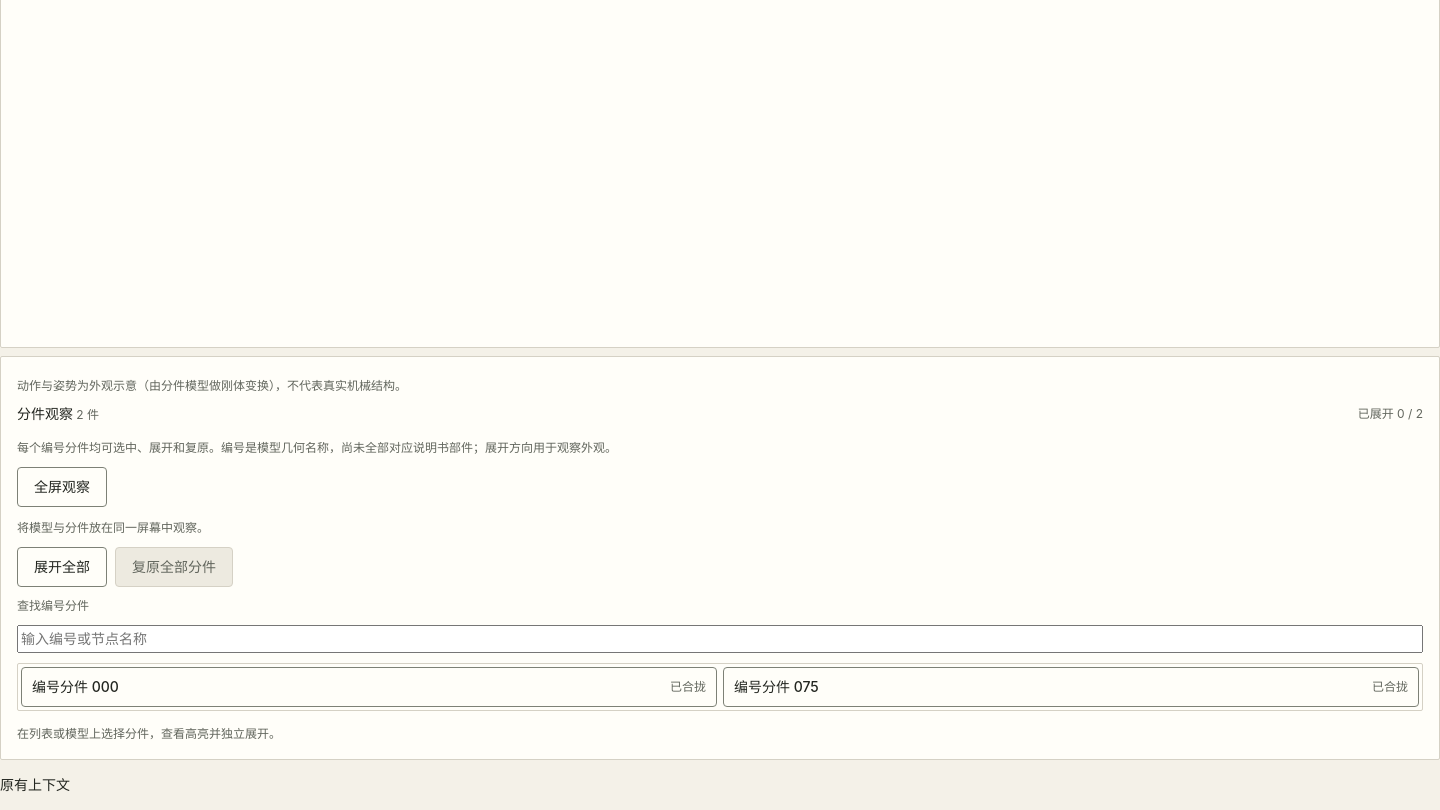
Test case: 分件全屏观察 › 按钮直接请求模型和分件的共同主栏，进入和按钮退出保留同一Canvas与展开状态
(page scrolled)
Click the button with test id "inspect-node-tripo_part_75" at (776, 686), box [723, 667, 1419, 707]
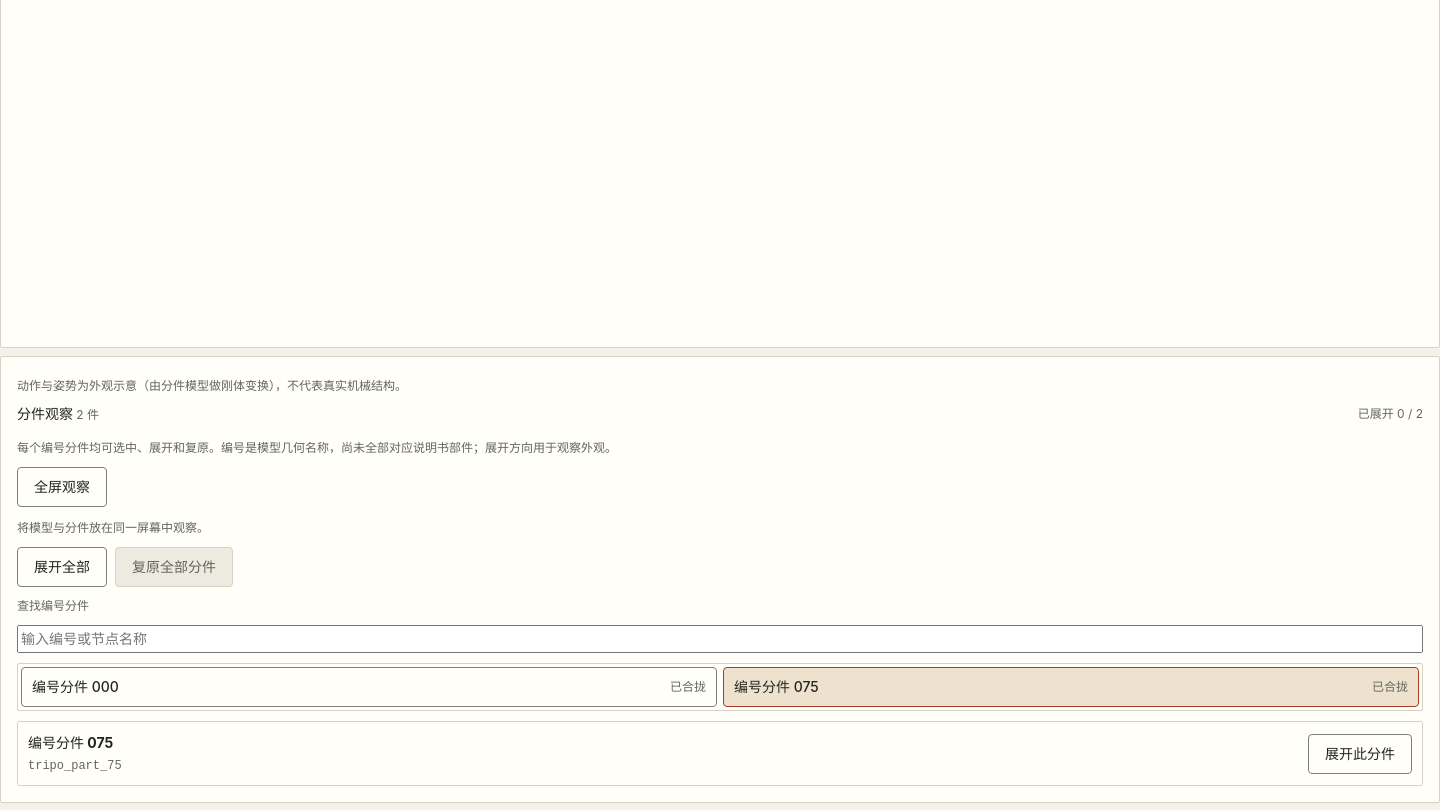
Click the button with test id "part-inspection-toggle" at (1360, 754), box [1308, 734, 1412, 774]
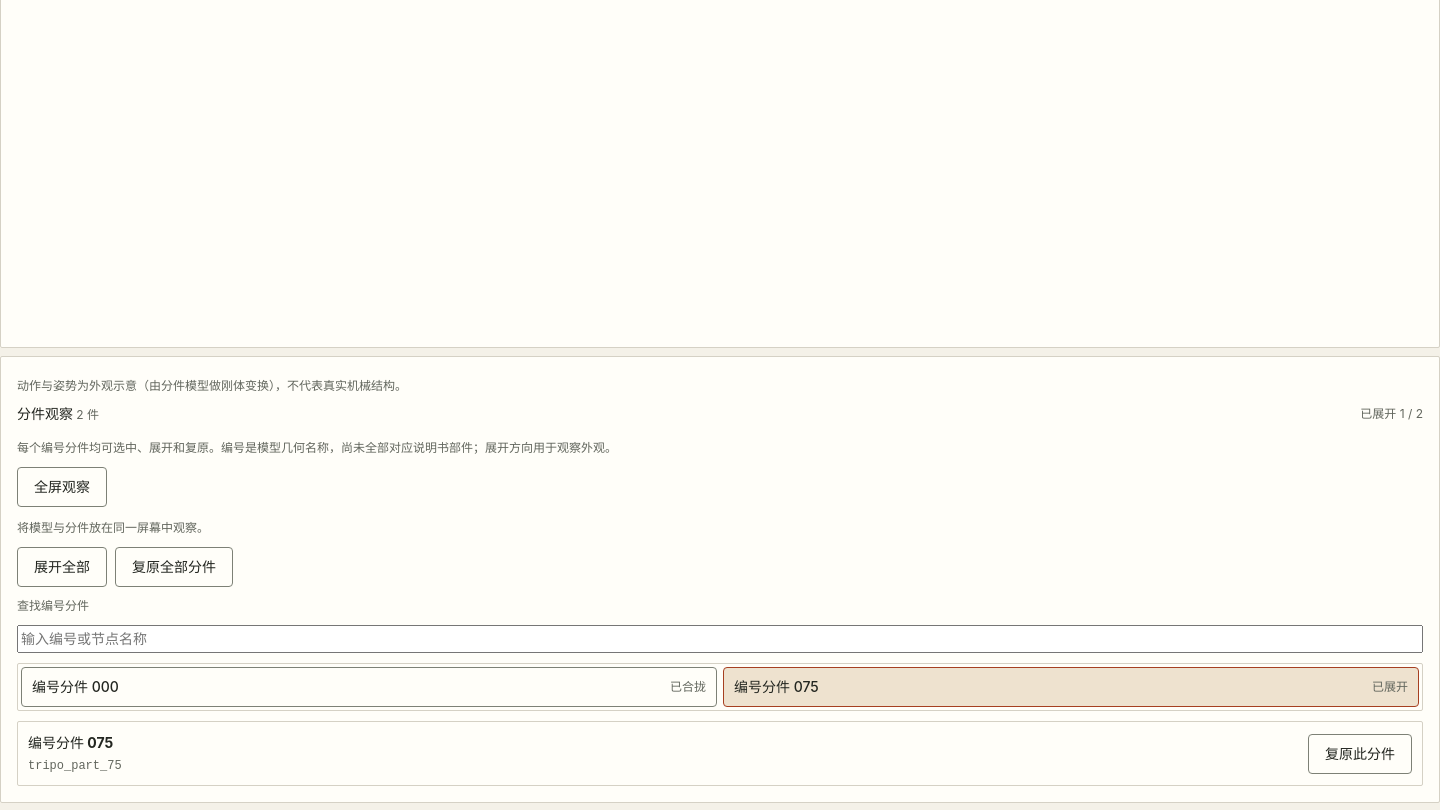
Click the button with test id "parts-fullscreen" at (62, 487), box [17, 467, 107, 507]
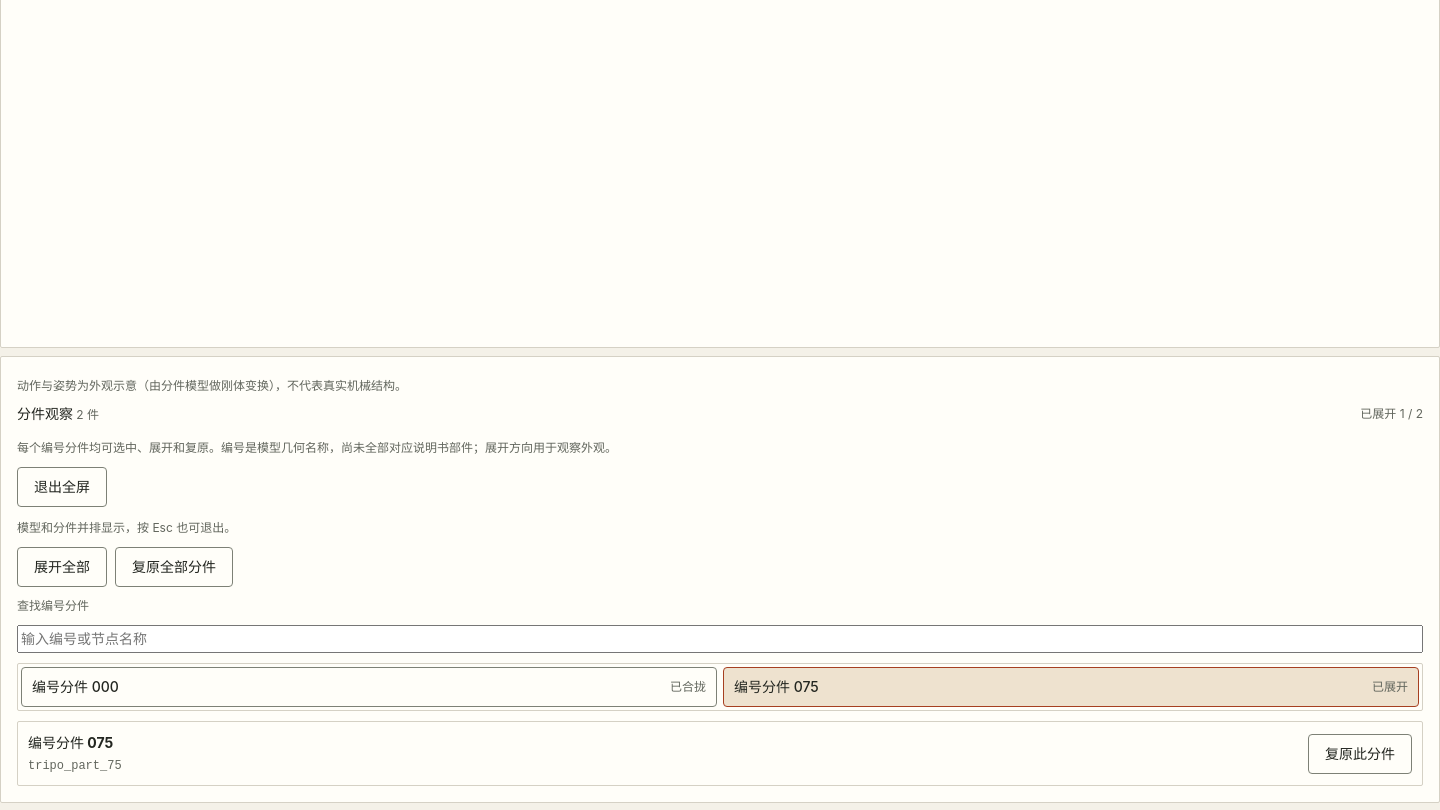
Result: the message with test id "parts-expanded-count" reads "已展开 1 / 2" at [1360, 405, 1423, 423]
Result: the button with test id "parts-fullscreen" reads "退出全屏"
Click the button with test id "parts-fullscreen" at (62, 487), box [17, 467, 107, 507]
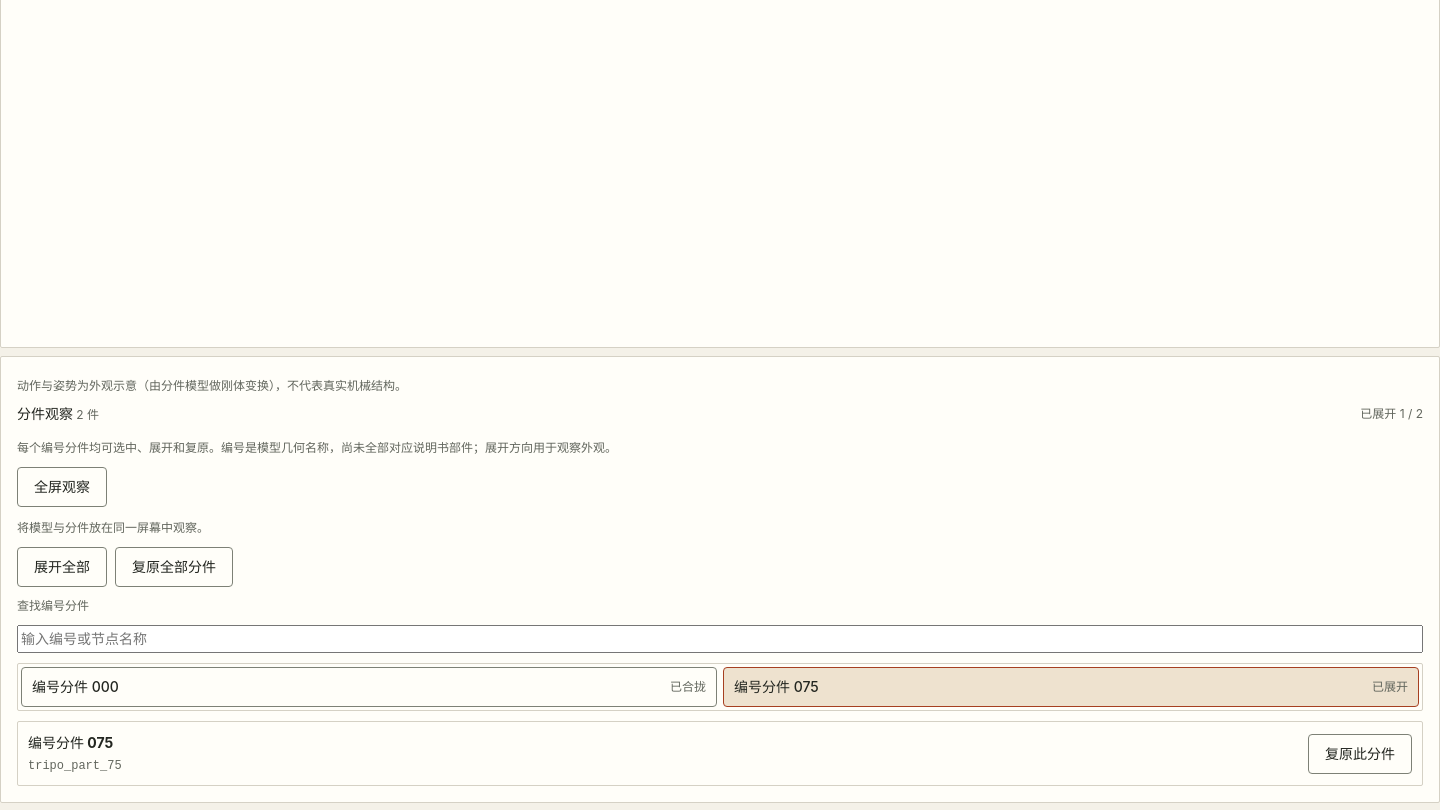
Result: the message with test id "parts-expanded-count" reads "已展开 1 / 2" at [1360, 405, 1423, 423]
Result: the button with test id "parts-fullscreen" reads "全屏观察" at [17, 467, 107, 507]
